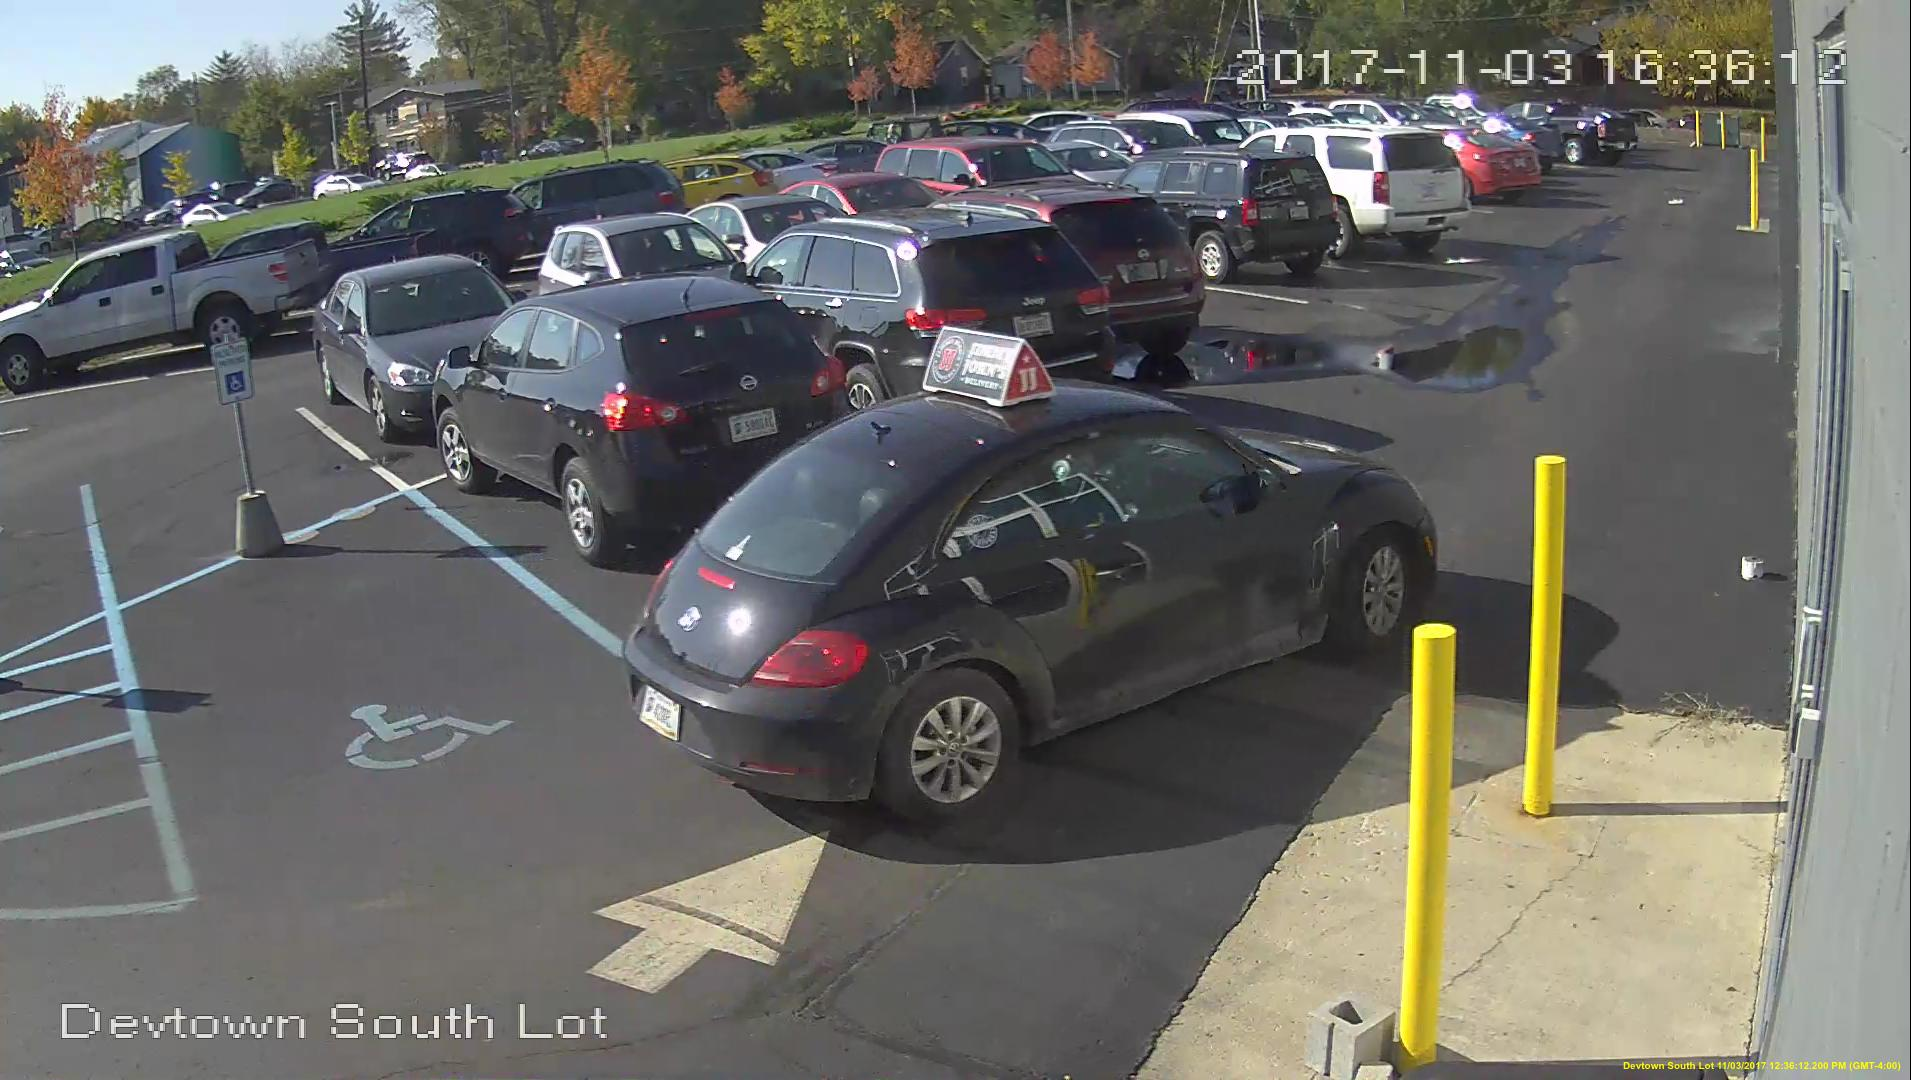jimmy_johns: (920, 318, 1057, 419)
